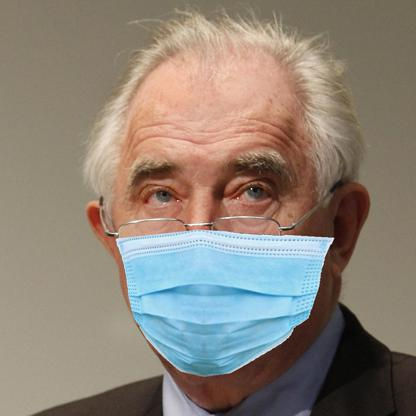mask: (114, 229, 331, 377)
